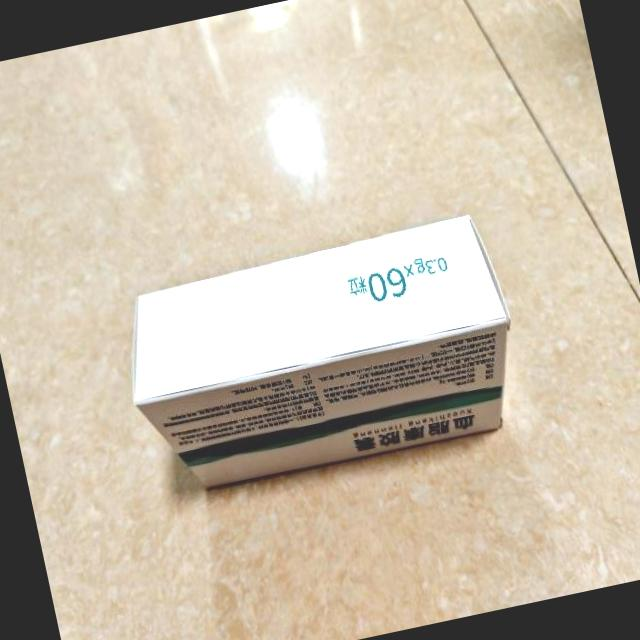box: (111, 210, 530, 500)
